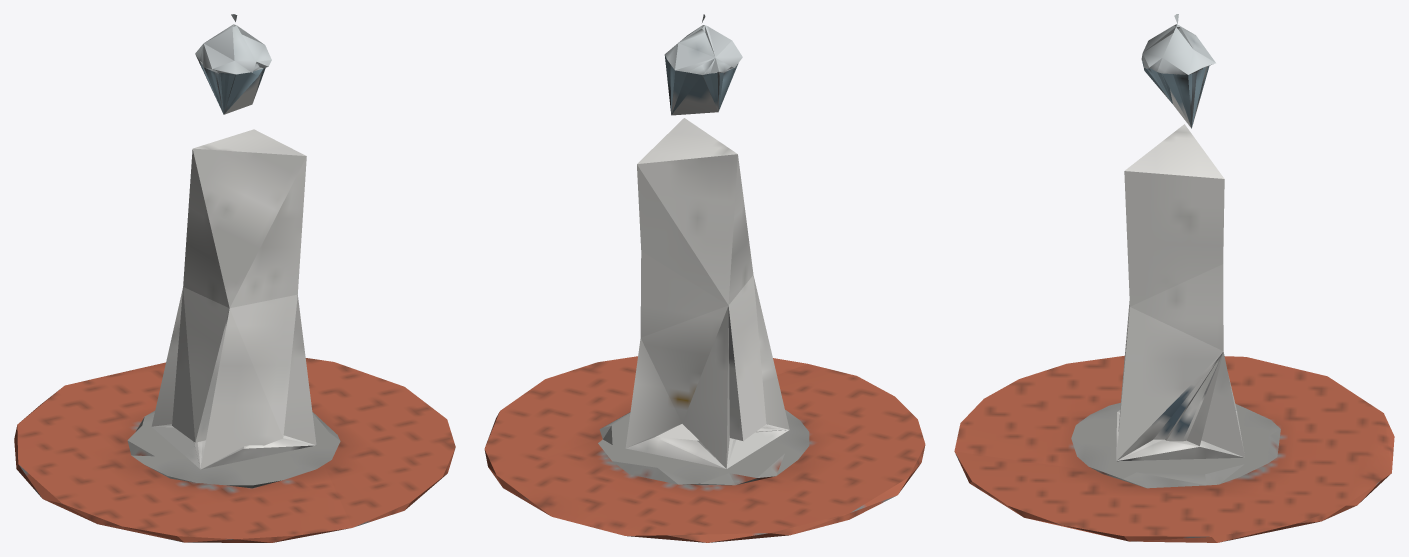
File: hai_dang_vung_tau_edits.far.glb
3 views of the same model, side by side, from view 1: azimuth 30°, elevation 25°; view 2: azimuth 150°, elevation 25°; view 3: azimuth 270°, elevation 25° (orthographic).
Visible parts, largest first — view 1: hai_dang_vung_tau_edits; view 2: hai_dang_vung_tau_edits; view 3: hai_dang_vung_tau_edits.
Boxes of the visible parts, bbox=[...] form: hai_dang_vung_tau_edits: bbox=[14, 14, 455, 542]; hai_dang_vung_tau_edits: bbox=[484, 14, 925, 542]; hai_dang_vung_tau_edits: bbox=[954, 14, 1394, 542].
Bounding box in the file's own units: 17.04 × 18.64 × 17.03.
Materials: 2 (2 with a texture image).
